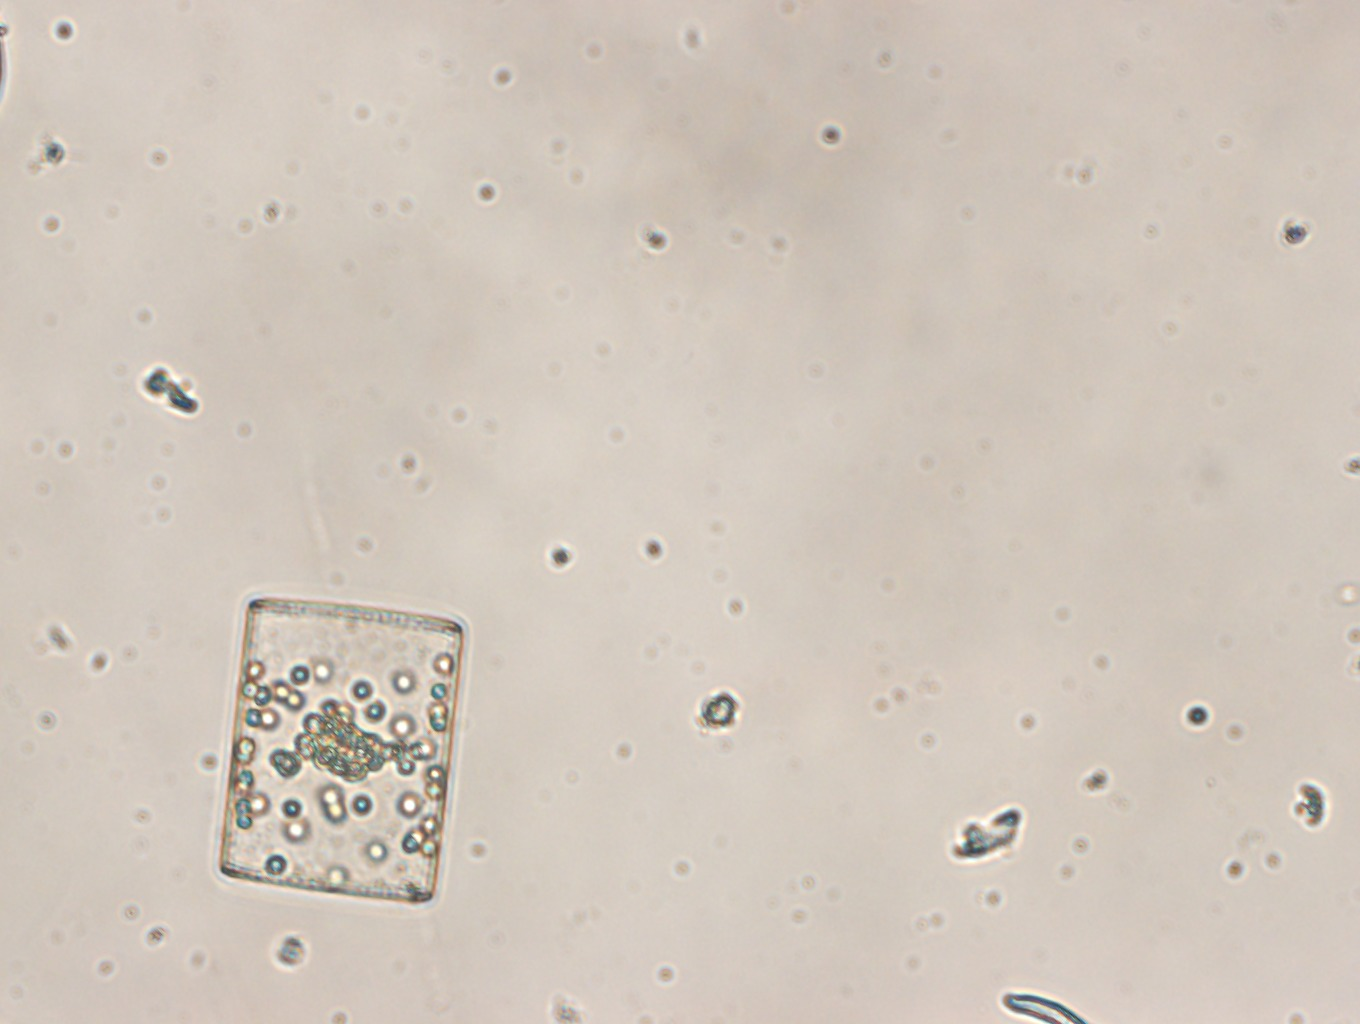guinardia flaccida: (217, 596, 464, 901)
